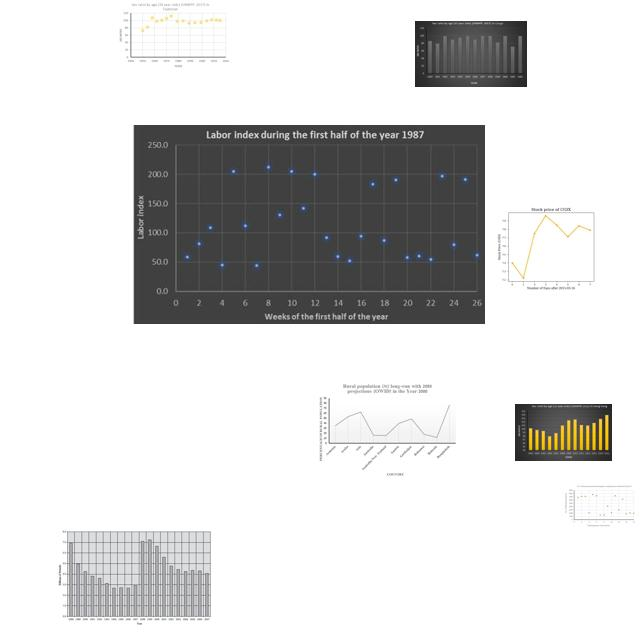Graph: (133, 125, 485, 324), (57, 528, 213, 626), (319, 383, 457, 478), (485, 202, 614, 291), (117, 1, 230, 68), (415, 21, 527, 87), (515, 404, 612, 461), (564, 484, 636, 528)
